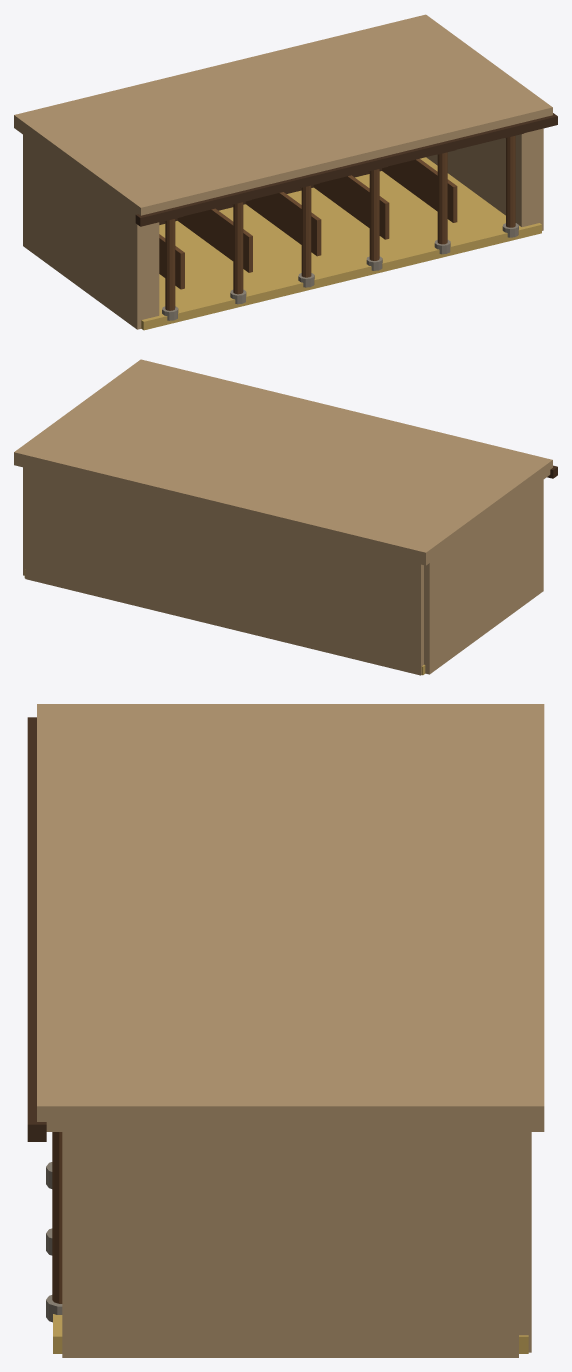
File: stable.glb
3 views of the same model, one above another, from view 1: azimuth 30°, elevation 25°; view 2: azimuth 150°, elevation 25°; view 3: azimuth 270°, elevation 25° (orthographic). The views are drawn at different scales.
Parts seen in each view (by area): view 1: Stable; view 2: Stable; view 3: Stable.
Part boxes in pixels (x1,y1,x2,y2): Stable: (14, 14, 557, 330); Stable: (14, 359, 557, 675); Stable: (27, 704, 544, 1357).
Bounding box in the file's own units: 15.2 × 4.42 × 8.15.
